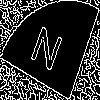N: (25, 24, 65, 82)
